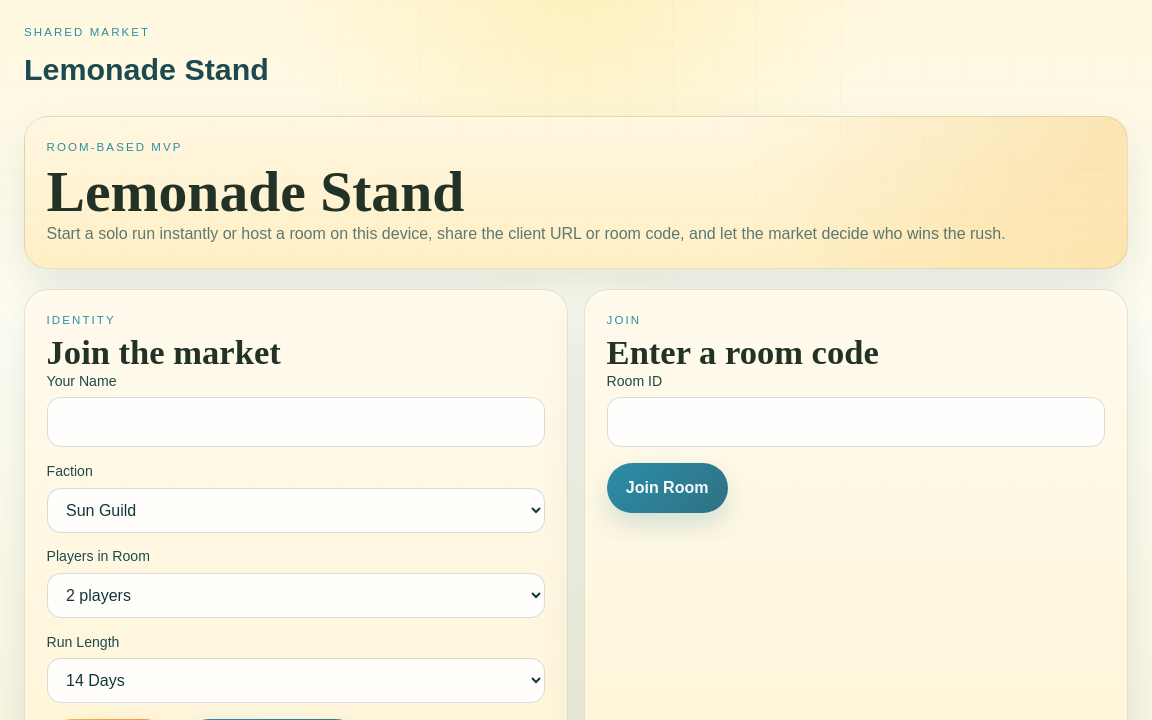
Test: App › shows solo planning copy without waiting on another player
In the field labelled "Your Name": {"x": 296, "y": 422} x1=47 y1=397 x2=545 y2=447, type "Alex"
(page scrolled)
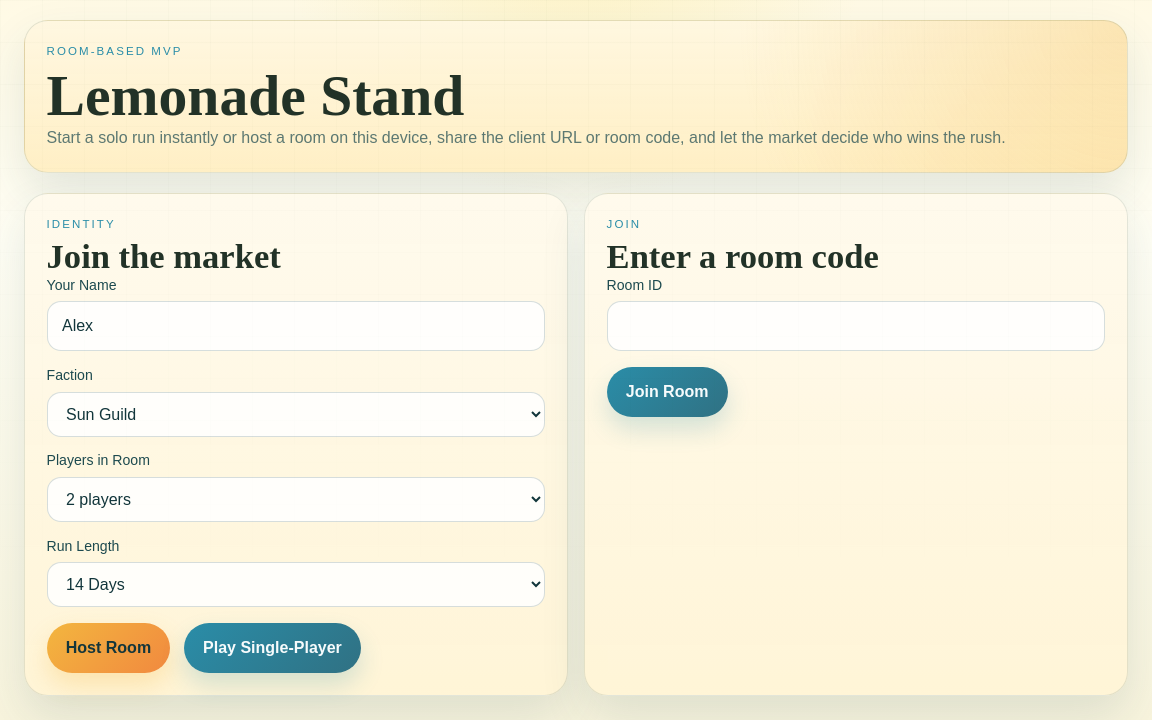
Click the button "Play Single-Player": {"x": 272, "y": 648} x1=184 y1=623 x2=361 y2=673
(page scrolled)
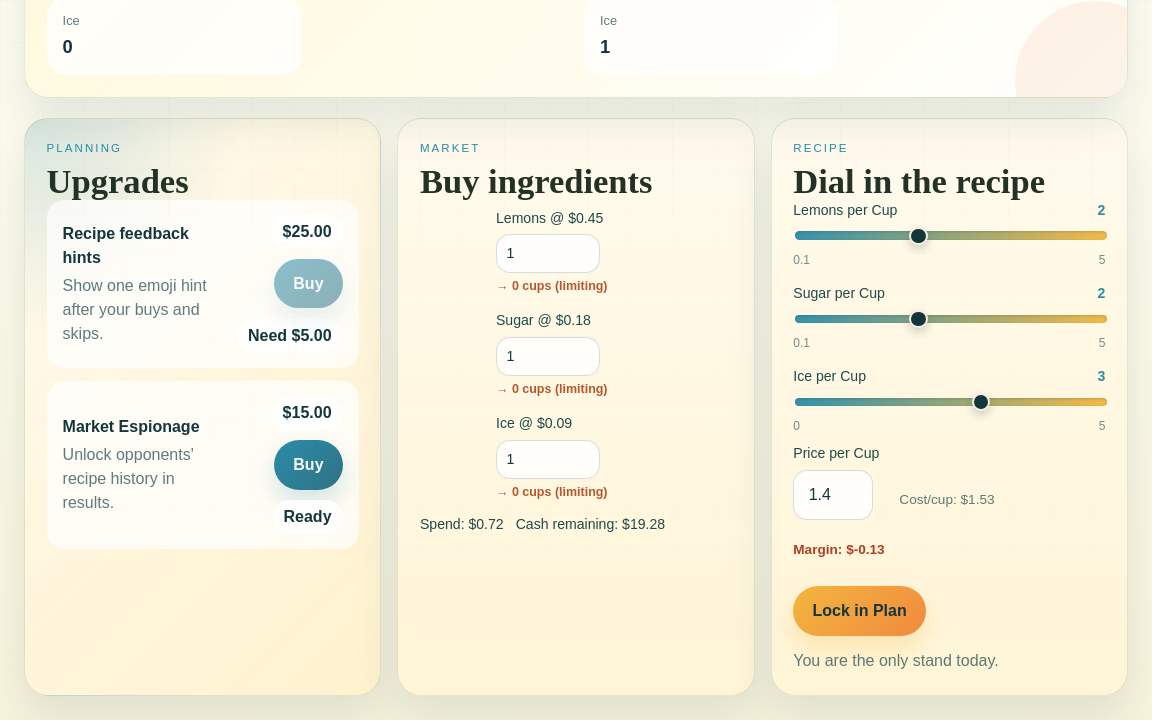
expect the text "You are the only stand today." is shown: met, box x1=793 y1=649 x2=999 y2=673
